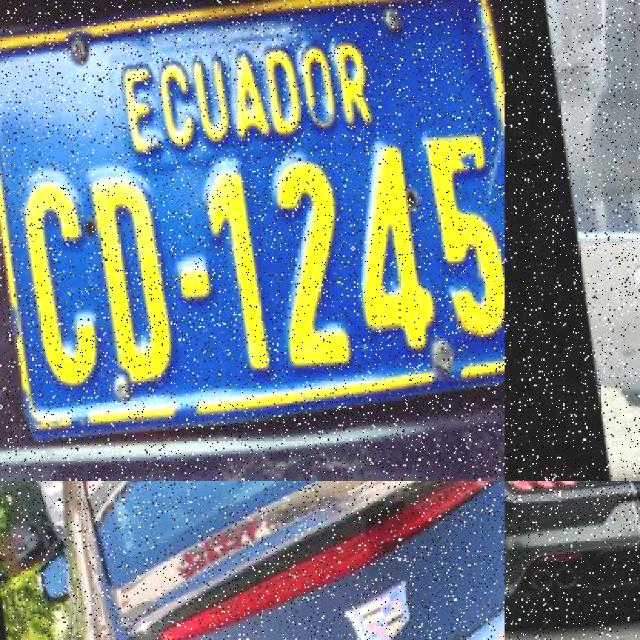licenseplate: (12, 94, 505, 395)
